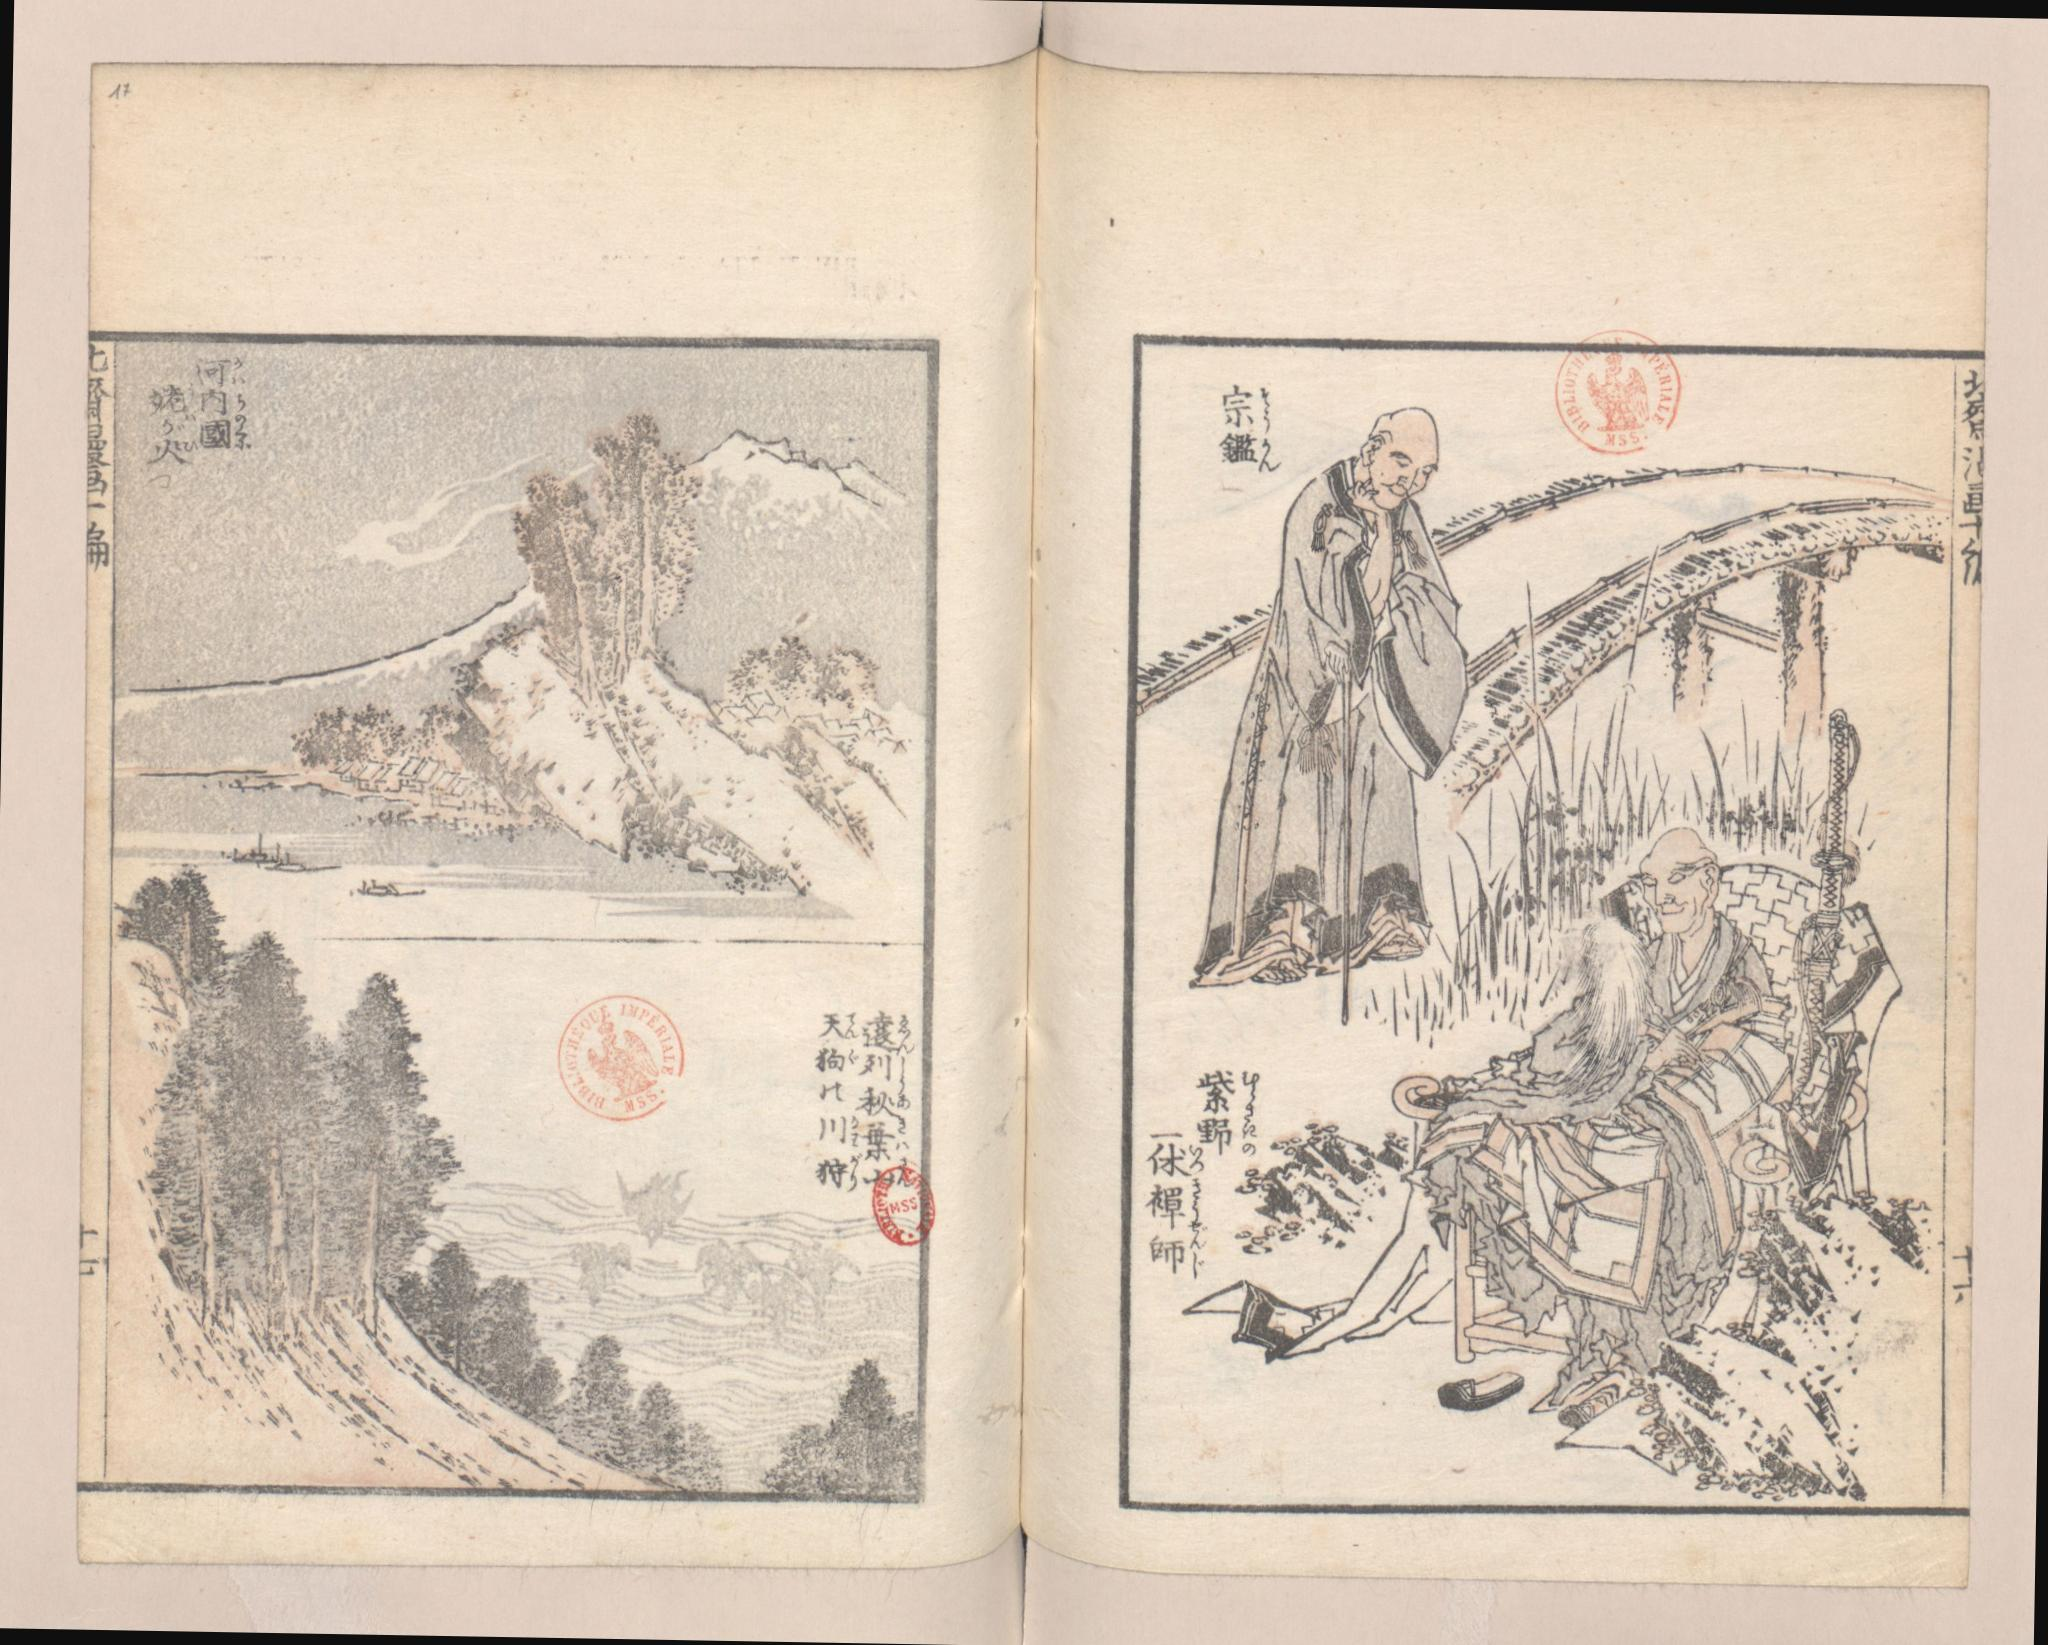MainZone-Character: (1145, 1175, 1210, 1232), (1195, 1064, 1259, 1113), (1214, 433, 1284, 477), (1145, 1230, 1210, 1276), (1217, 383, 1274, 433), (1194, 1115, 1259, 1153), (863, 1009, 917, 1056), (198, 413, 255, 452), (812, 1151, 865, 1193), (1147, 1138, 1205, 1175), (863, 1118, 913, 1158), (193, 351, 250, 386), (859, 1052, 908, 1091), (141, 435, 200, 467), (868, 1158, 917, 1192), (814, 1115, 861, 1148), (146, 379, 195, 411), (198, 386, 252, 415), (858, 1088, 912, 1116), (811, 1041, 856, 1071), (819, 1007, 859, 1039)
MainZone-Ruby: (1187, 1177, 1210, 1232), (1185, 1234, 1210, 1276), (1256, 435, 1283, 472), (895, 1012, 915, 1054), (1241, 1069, 1259, 1113), (1257, 386, 1274, 431), (1241, 1115, 1259, 1153), (893, 1157, 915, 1187), (233, 416, 252, 452), (846, 1151, 863, 1190), (893, 1118, 912, 1150), (232, 354, 248, 384), (848, 1115, 863, 1148), (844, 1009, 859, 1039), (1189, 1143, 1204, 1173), (896, 1056, 908, 1088), (846, 1044, 859, 1066), (181, 438, 198, 453), (895, 1093, 910, 1108), (235, 391, 247, 410), (186, 384, 195, 406)
